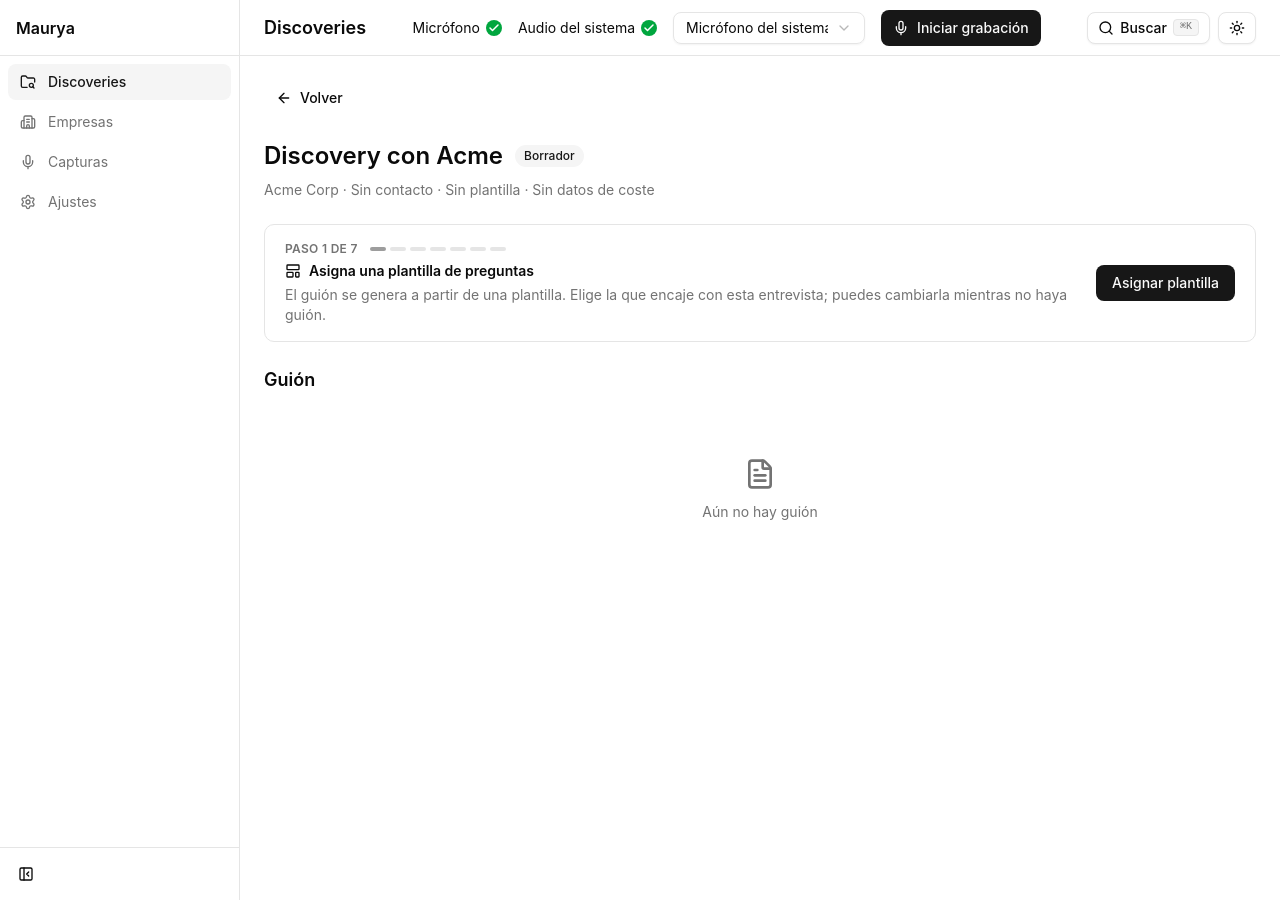
Test: ConsentDialog (aviso de grabación) › before recording › opens the "Aviso de grabación" dialog with the legal reminder on "Iniciar grabación" without starting the capture yet
Click the button "Iniciar grabación". click: (961, 28)
box: [881,10,1041,46]
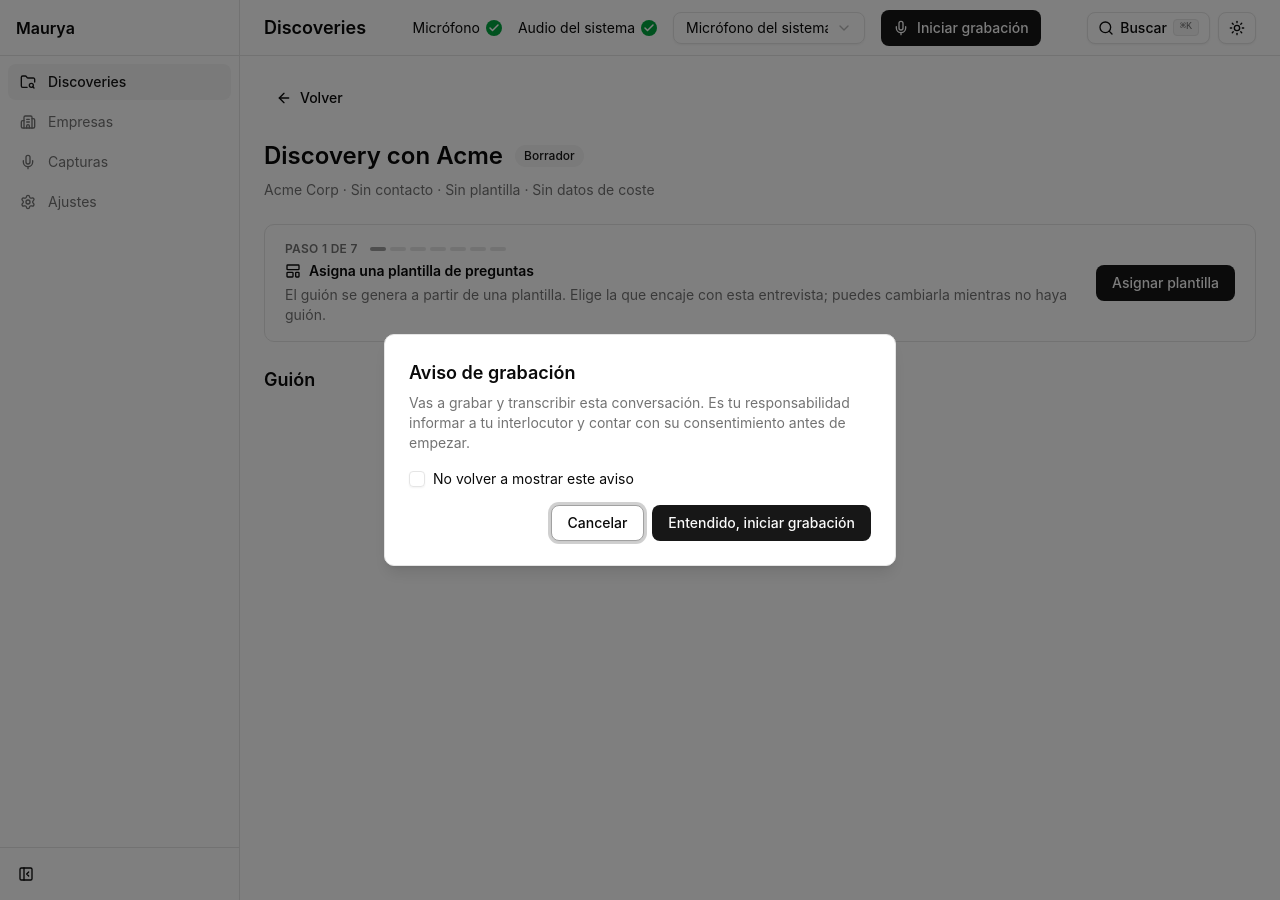
Check: the heading "Aviso de grabación" is shown, box [409,359,575,387]
Check: the text "Vas a grabar y transcribir esta conversación. Es tu responsabilidad informar a tu interlocutor y contar con su consentim" is shown, box [409,394,850,451]
Check: the checkbox is not checked, box [409,471,425,487]
